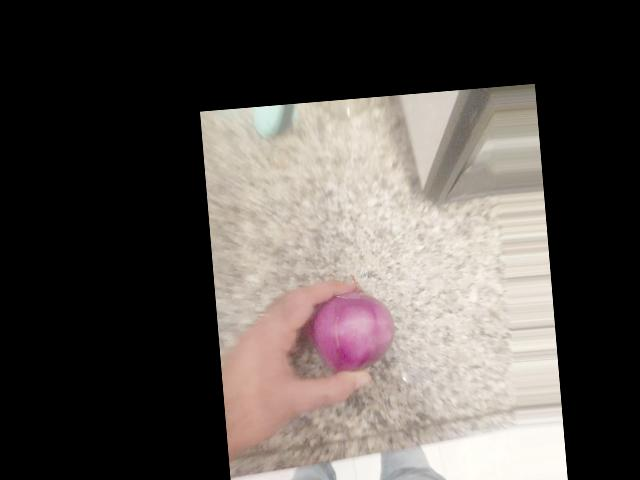onion: (304, 292, 393, 384)
